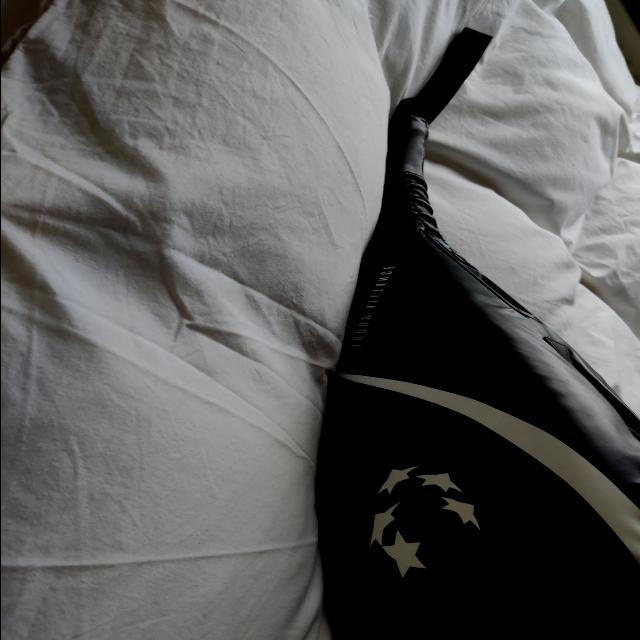paddle: (306, 109, 640, 640)
